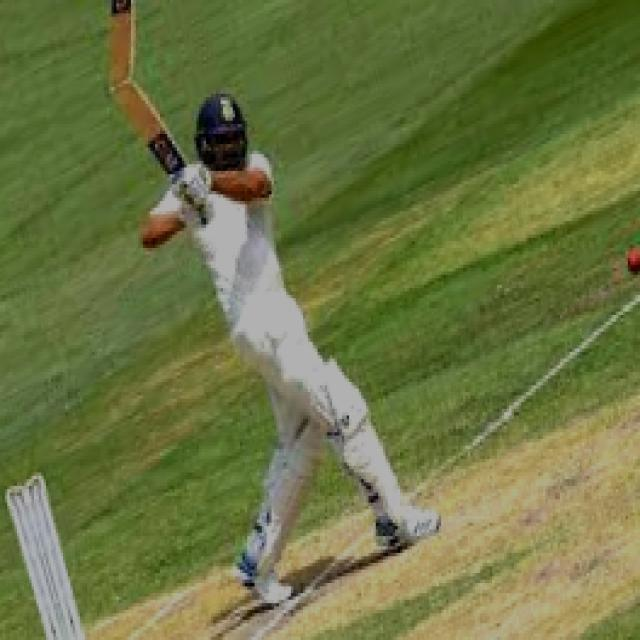toe: (108, 81, 140, 111)
